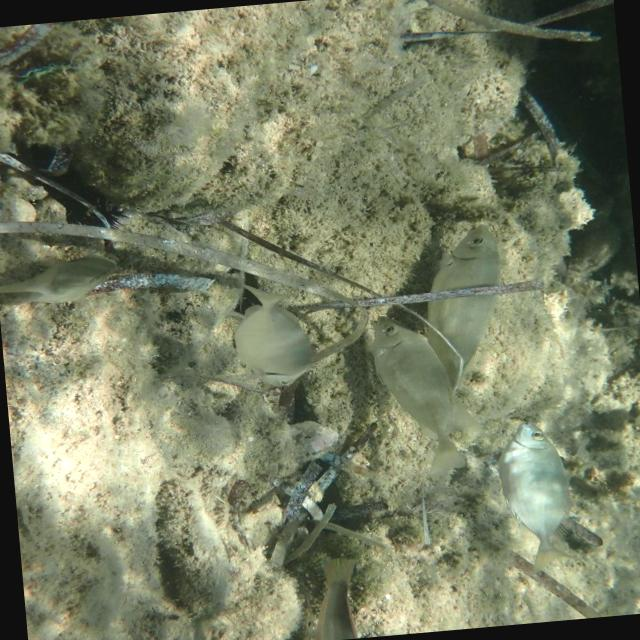Sokar Baligi: (480, 416, 598, 580)
